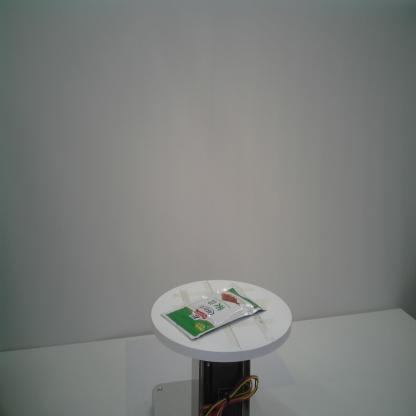Seasoner: (160, 284, 266, 342)
